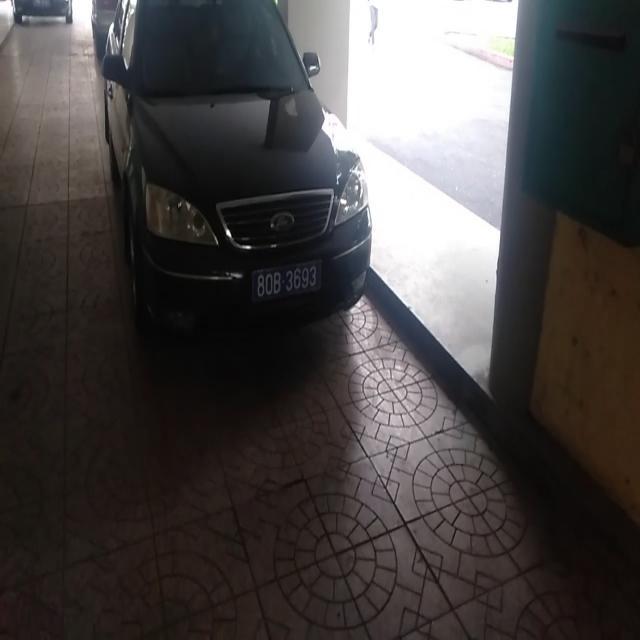bien_xanh: (254, 260, 323, 297)
